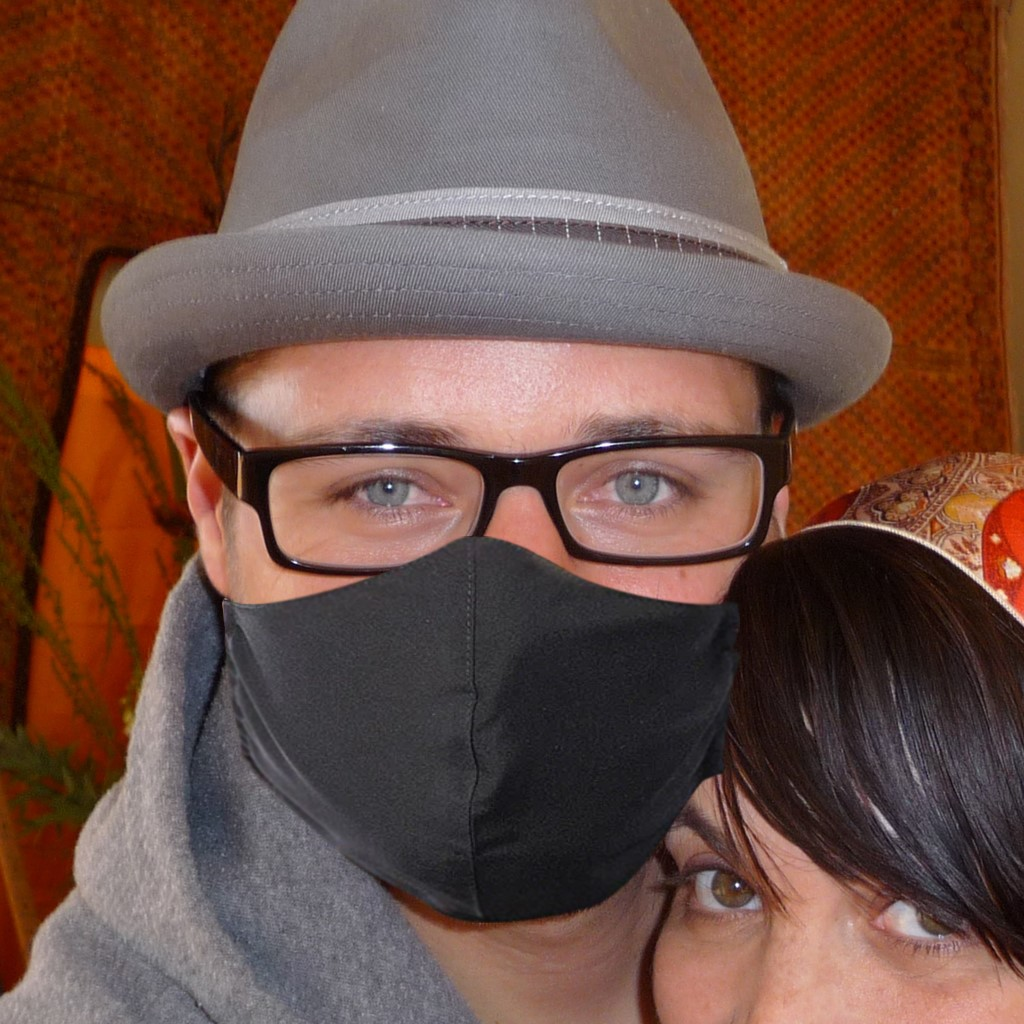con_mascara: (192, 162, 817, 932)
